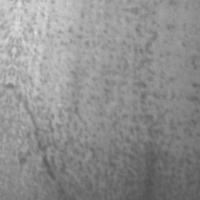pitted_surface: (6, 12, 199, 199)
